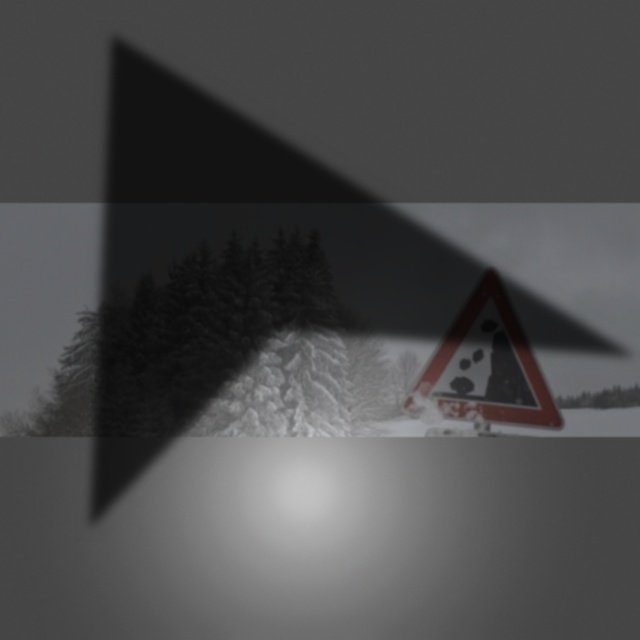Falling_Rocks: (411, 266, 563, 431)
